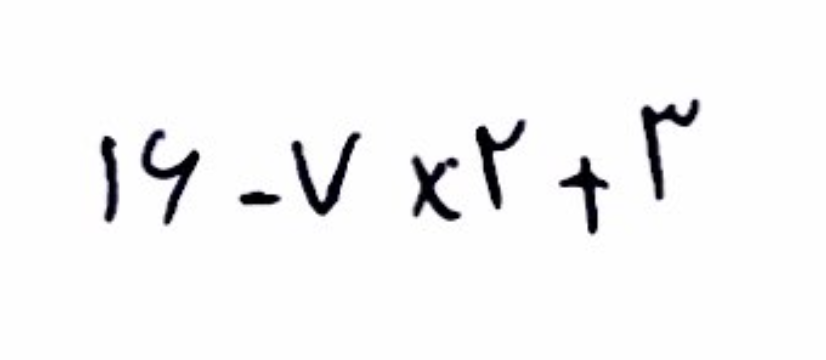character: (639, 98, 701, 201), (140, 129, 201, 226), (290, 133, 361, 216), (476, 119, 528, 211), (557, 156, 611, 235), (408, 156, 463, 218), (99, 136, 124, 222), (235, 191, 283, 207)
